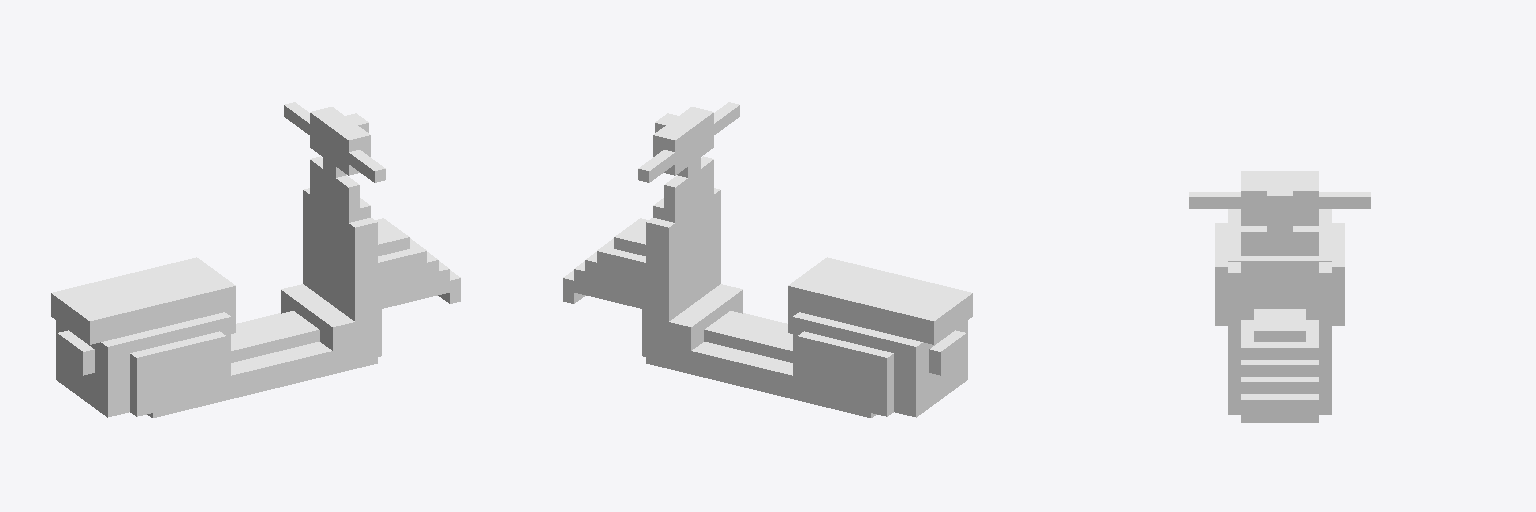
The model's file is ItalianVespa.obj.
3 views of the same model, side by side, from view 1: azimuth 30°, elevation 25°; view 2: azimuth 150°, elevation 25°; view 3: azimuth 270°, elevation 25° (orthographic).
Parts seen in each view (by area): view 1: object 1; view 2: object 1; view 3: object 1.
Boxes of the visible parts, x1=… form: object 1: x1=51, y1=102, x2=460, y2=417; object 1: x1=563, y1=102, x2=972, y2=417; object 1: x1=1189, y1=171, x2=1370, y2=422.
Size of the model in its own units: 3.3 by 1.9 by 1.4.